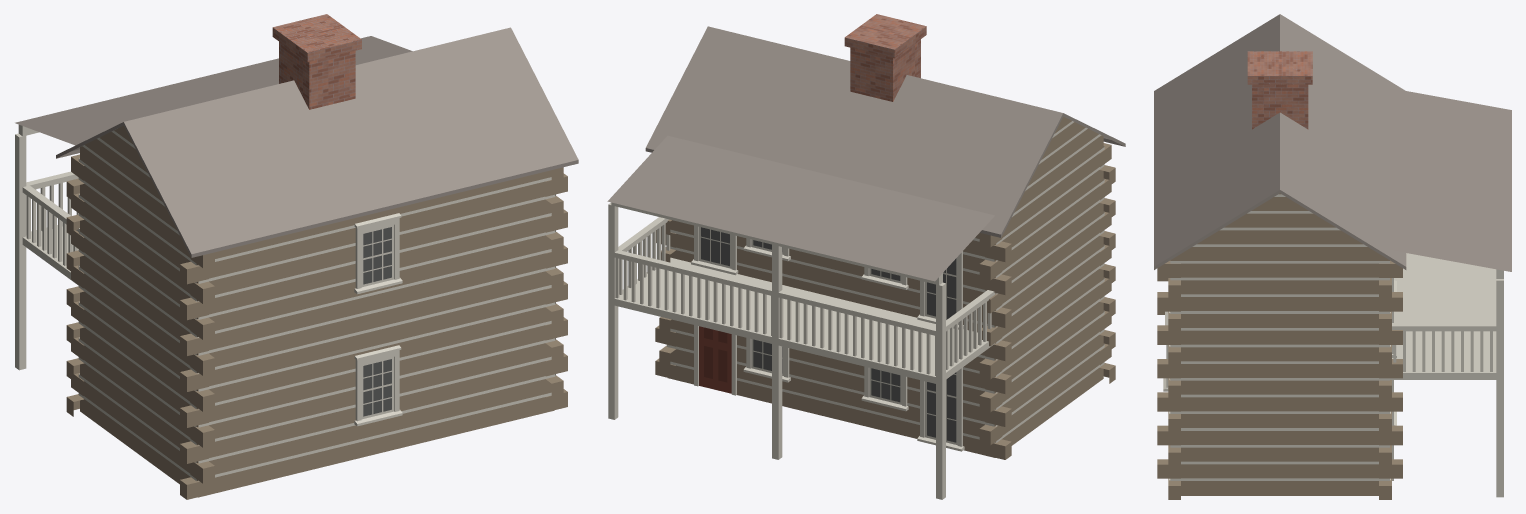
Rendered from first_fort_dearborn_soldiers_barracks_se__first_fort_1803.glb.
3 views of the same model, side by side, from view 1: azimuth 30°, elevation 25°; view 2: azimuth 150°, elevation 25°; view 3: azimuth 270°, elevation 25° (orthographic). The views are drawn at different scales.
Visible parts, largest first — view 1: first_fort_dearborn_soldiers_barracks_se__first_fort_1803; view 2: first_fort_dearborn_soldiers_barracks_se__first_fort_1803; view 3: first_fort_dearborn_soldiers_barracks_se__first_fort_1803.
Part boxes in pixels (x1,y1,x2,y2): first_fort_dearborn_soldiers_barracks_se__first_fort_1803: (15, 14, 578, 499); first_fort_dearborn_soldiers_barracks_se__first_fort_1803: (607, 14, 1125, 499); first_fort_dearborn_soldiers_barracks_se__first_fort_1803: (1154, 14, 1511, 499).
Size of the model in its own units: 7.67 by 7.15 by 6.6.
Materials: 7 (1 with a texture image).
